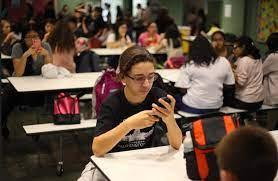phone: (91, 45, 180, 154), (10, 27, 52, 77)
